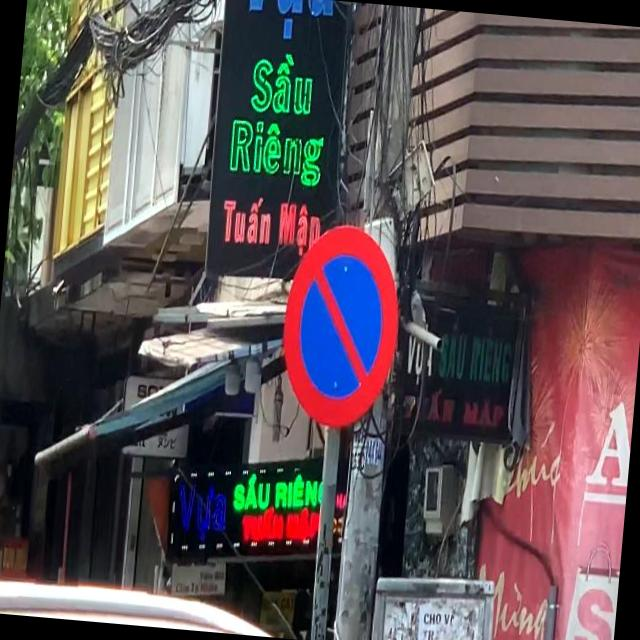P-131a: (274, 222, 406, 431)
